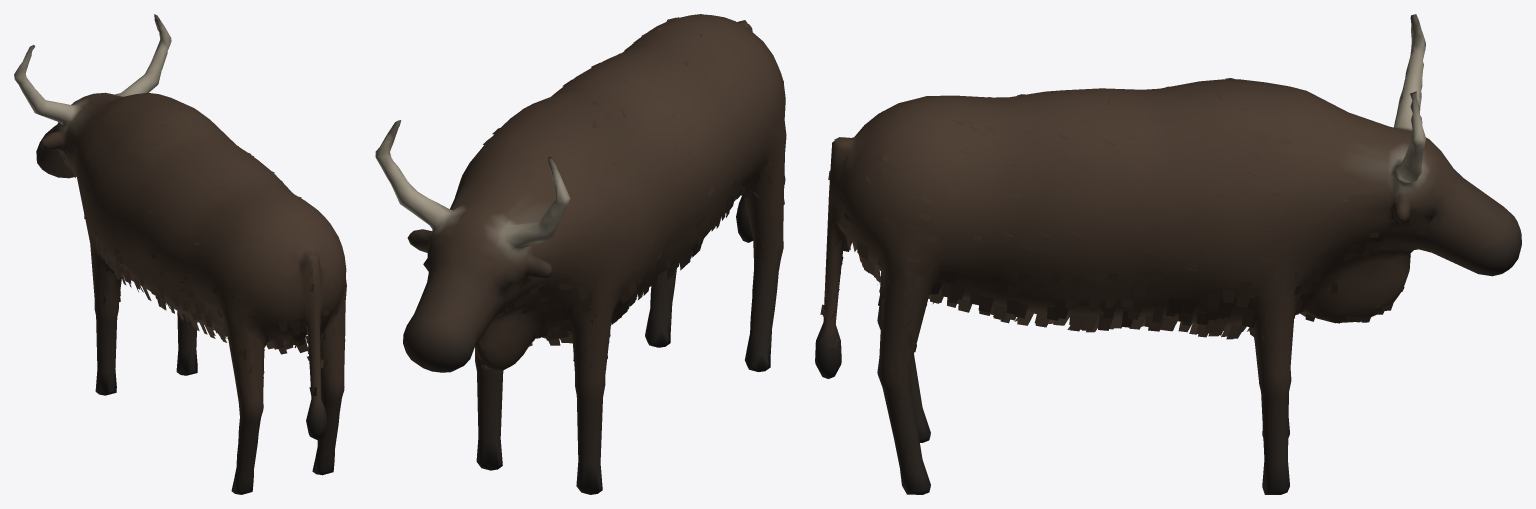
File: animale_bue_3.glb
The picture shows the model from 3 angles, left to right: view 1: azimuth 30°, elevation 25°; view 2: azimuth 150°, elevation 25°; view 3: azimuth 270°, elevation 25°; orthographic projection. The views are drawn at different scales.
Parts seen in each view (by area): view 1: animale_bue_3; view 2: animale_bue_3; view 3: animale_bue_3.
Part boxes in pixels (x1,y1,x2,y2): animale_bue_3: (14,14,346,494); animale_bue_3: (375,14,786,494); animale_bue_3: (815,14,1521,494).
Bounding box in the file's own units: 0.8464 × 1.63 × 2.53.
